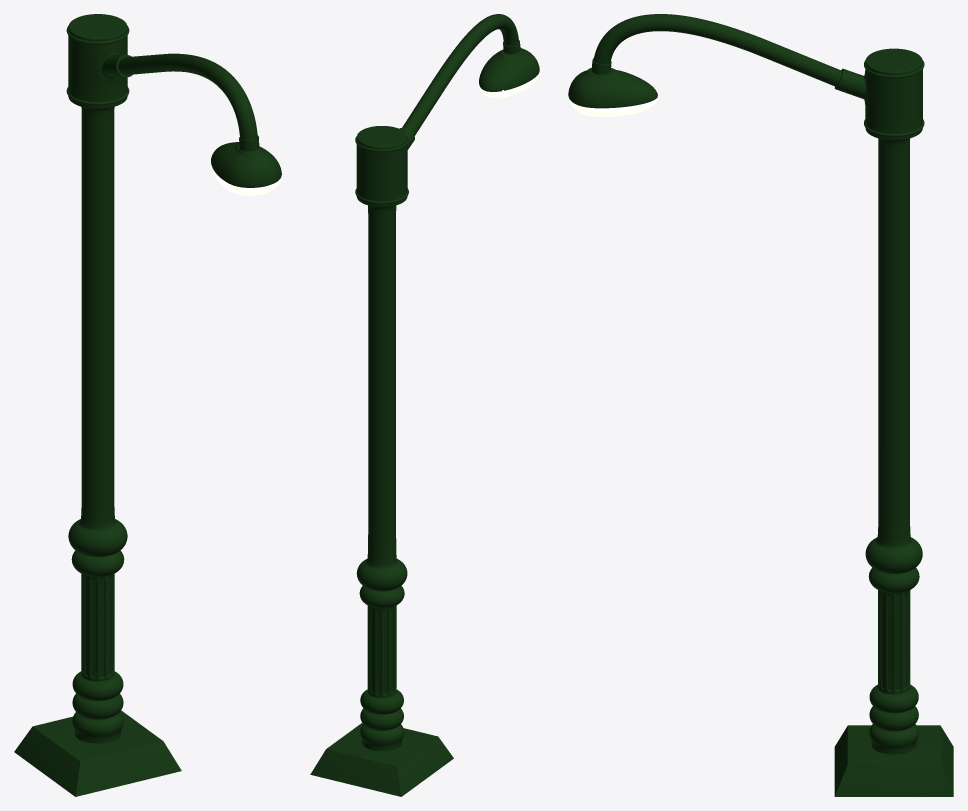
File: urban_street_light.glb
The picture shows the model from 3 angles, left to right: view 1: azimuth 30°, elevation 25°; view 2: azimuth 150°, elevation 25°; view 3: azimuth 270°, elevation 25°; orthographic projection. The views are drawn at different scales.
Parts seen in each view (by area): view 1: Street Light_0; view 2: Street Light_0; view 3: Street Light_0.
Boxes of the visible parts, bbox=[...] form: Street Light_0: bbox=[14, 14, 281, 796]; Street Light_0: bbox=[310, 14, 539, 796]; Street Light_0: bbox=[568, 14, 953, 796].
Size of the model in its own units: 0.6034 by 4.23 by 1.95.
Materials: 2 (1 with a texture image).
